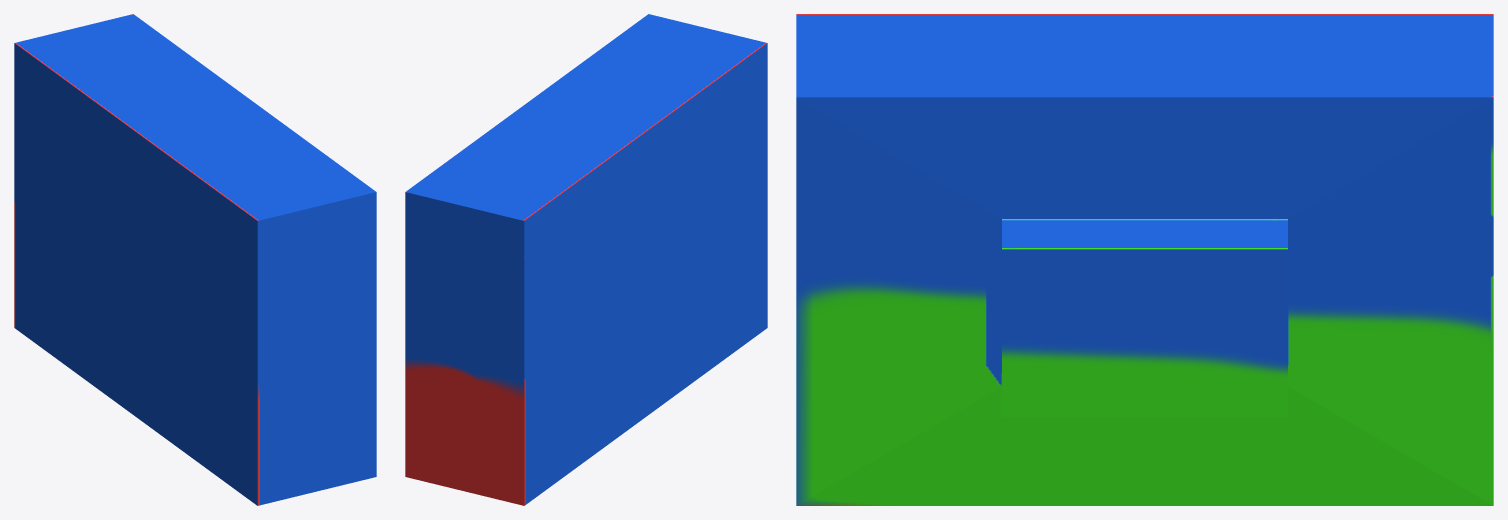
The model's file is camera.obj.
3 views of the same model, side by side, from view 1: azimuth 30°, elevation 25°; view 2: azimuth 150°, elevation 25°; view 3: azimuth 270°, elevation 25° (orthographic). The views are drawn at different scales.
Parts seen in each view (by area): view 1: Cube; view 2: Cube; view 3: Cube.
Part boxes in pixels (x1,y1,x2,y2): Cube: [14, 14, 376, 505]; Cube: [405, 14, 767, 505]; Cube: [796, 14, 1493, 505].
Bounding box in the file's own units: 0.7654 × 1.27 × 1.96.
1 material, 1 textured.
